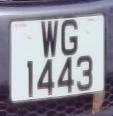1: (23, 56, 38, 103)
3: (76, 52, 95, 96)
4: (34, 57, 58, 100), (56, 54, 78, 98)
G: (60, 18, 81, 60)
W: (38, 17, 61, 63)
